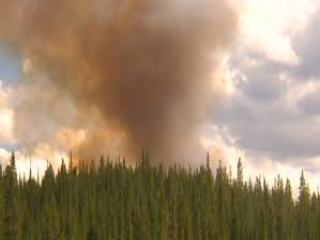smoke: (96, 32, 240, 178)
